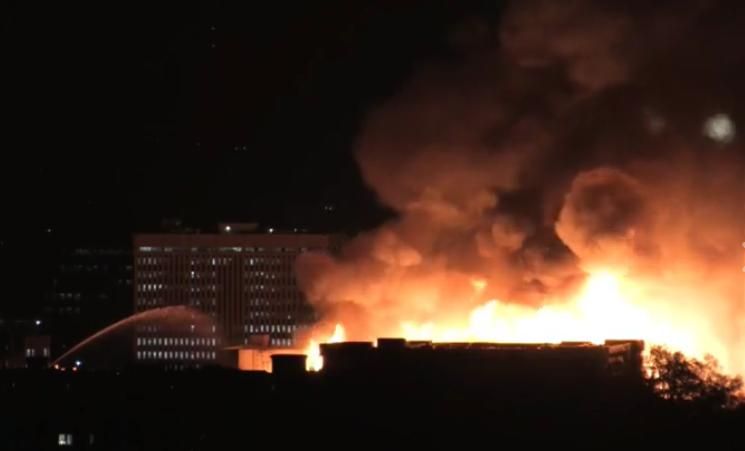Fire: (268, 249, 730, 357)
